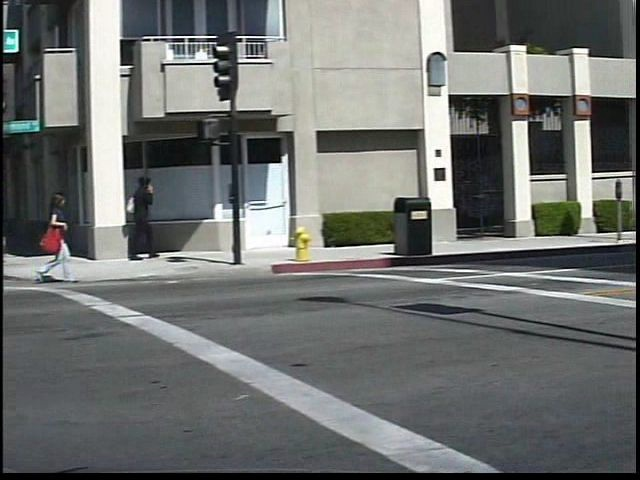person: (35, 184, 86, 292), (128, 173, 175, 263)
